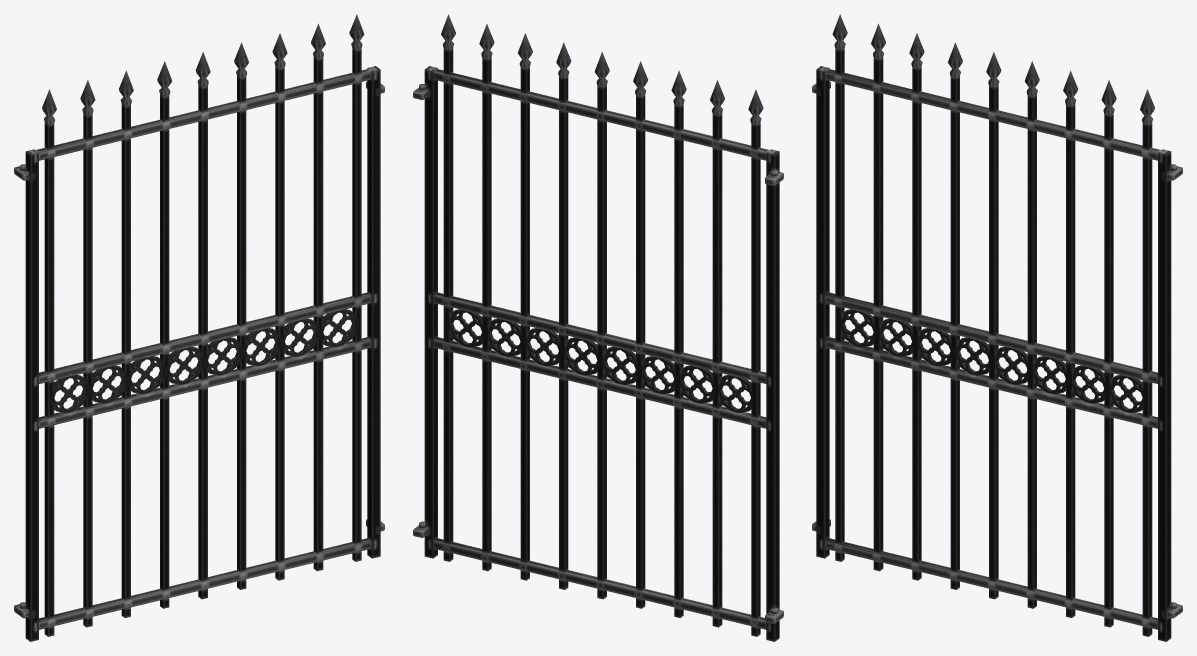
The model's file is WindowGrille.fbx.
3 views of the same model, side by side, from view 1: azimuth 30°, elevation 25°; view 2: azimuth 150°, elevation 25°; view 3: azimuth 330°, elevation 25° (orthographic).
Parts seen in each view (by area): view 1: WindowGrille; view 2: WindowGrille; view 3: WindowGrille.
Boxes of the visible parts, box(x1,y1,x2,y2) form: WindowGrille: box(14, 14, 384, 641); WindowGrille: box(413, 14, 783, 641); WindowGrille: box(812, 14, 1182, 641).
Bounding box in the file's own units: 424 × 611 × 25.5.
